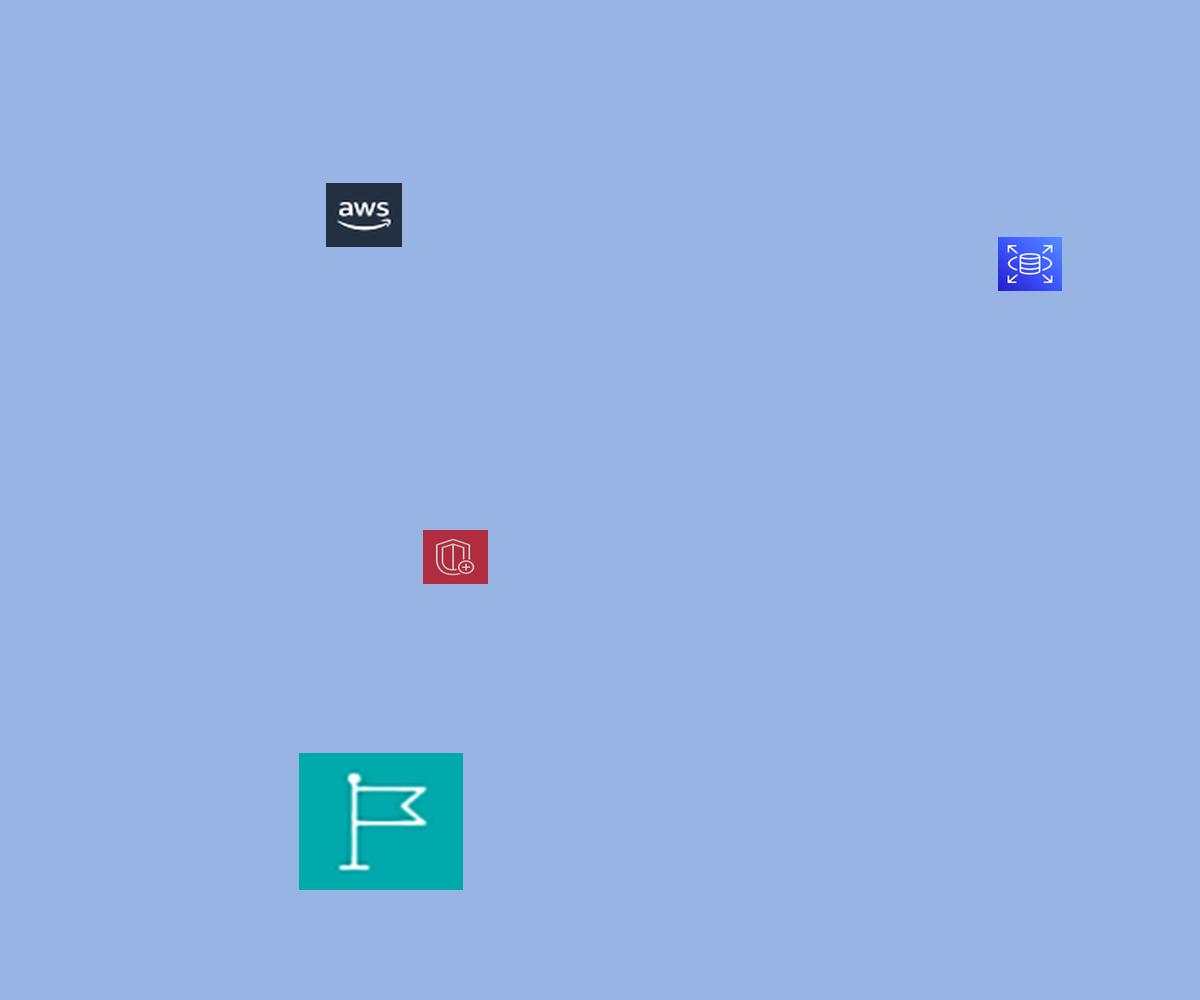AWS-Cloud-logo: (326, 183, 402, 247)
AWS-RDS: (998, 237, 1062, 291)
AWS-Region: (299, 753, 463, 890)
AWS-Shield: (423, 530, 488, 584)
